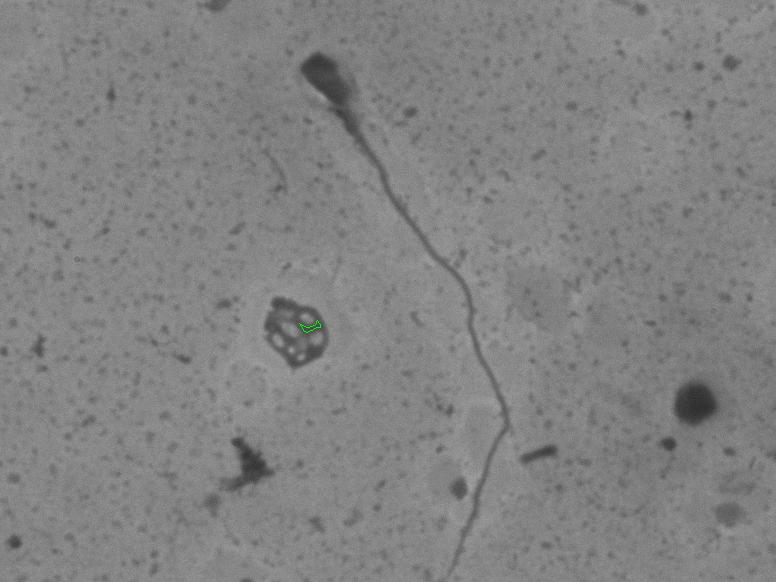Abnormal: (284, 32, 521, 570)
